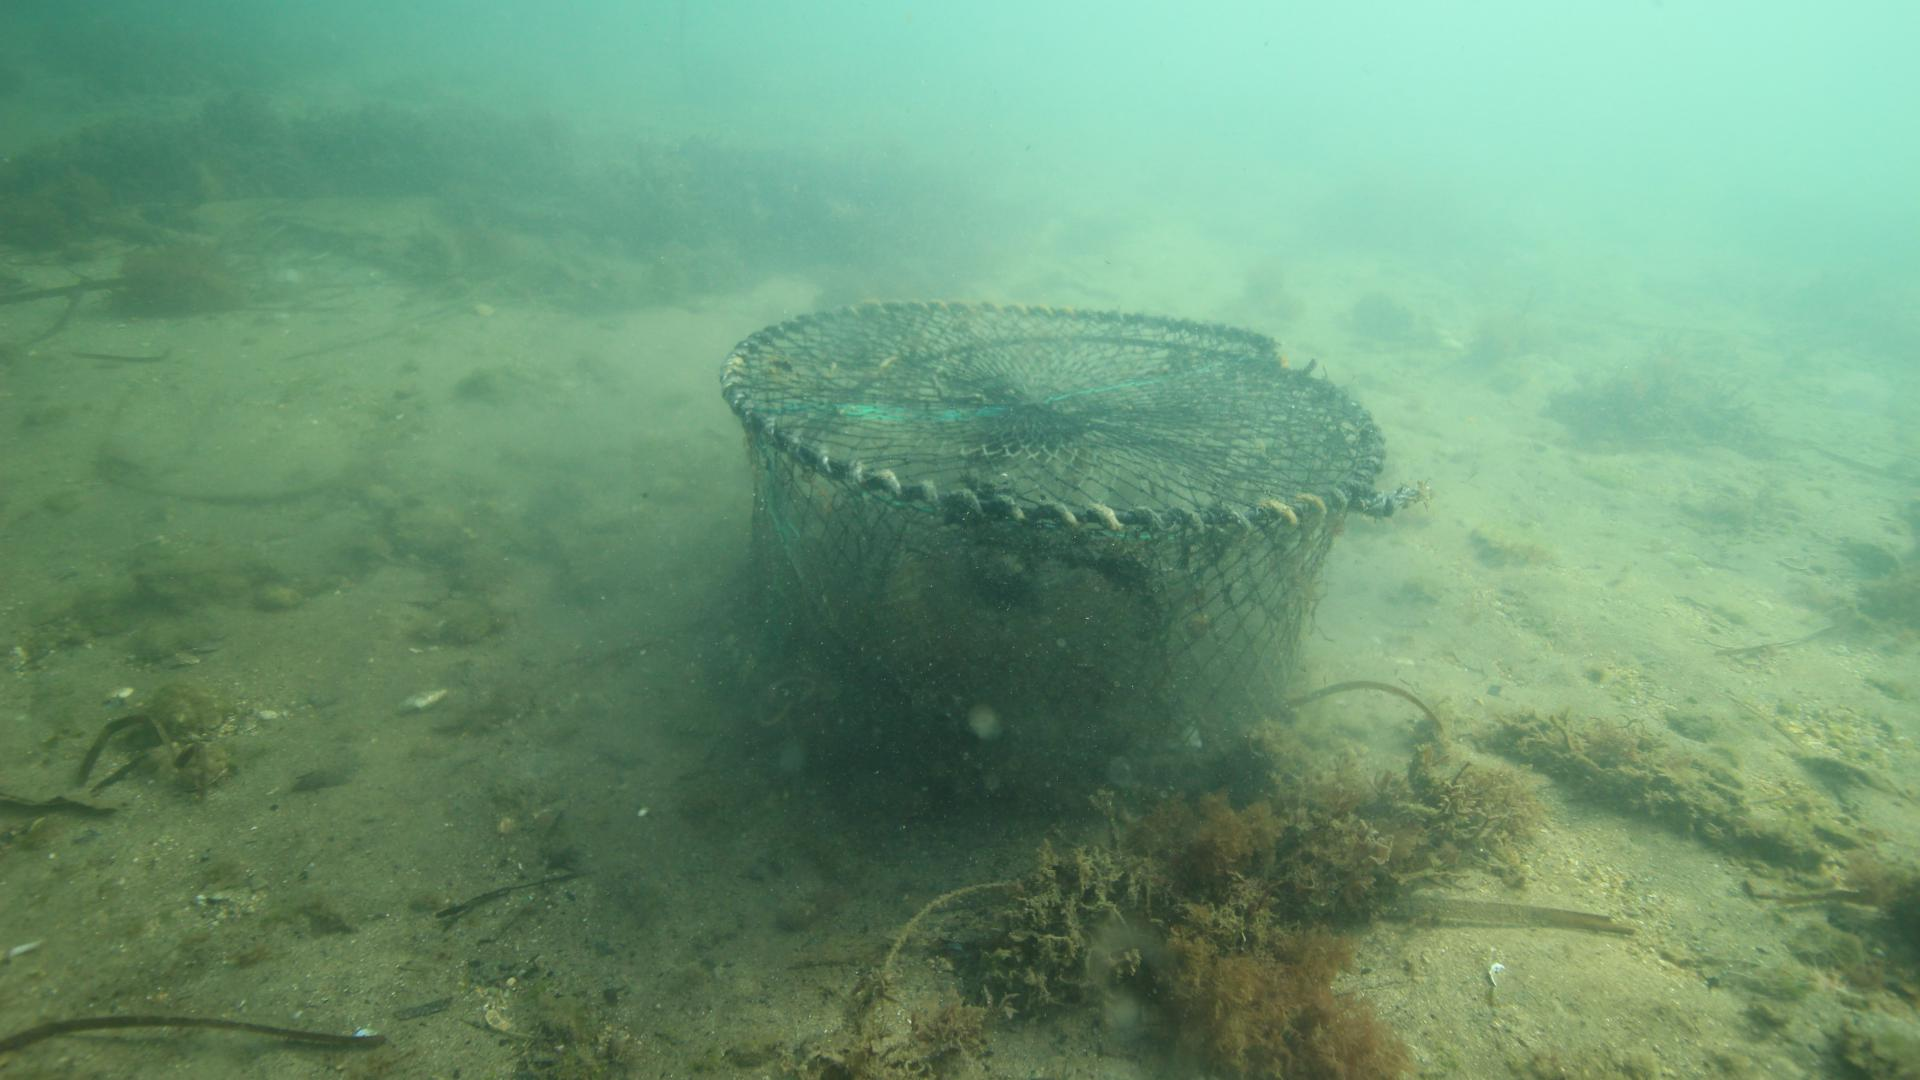circular fish trap: (717, 297, 1386, 802)
